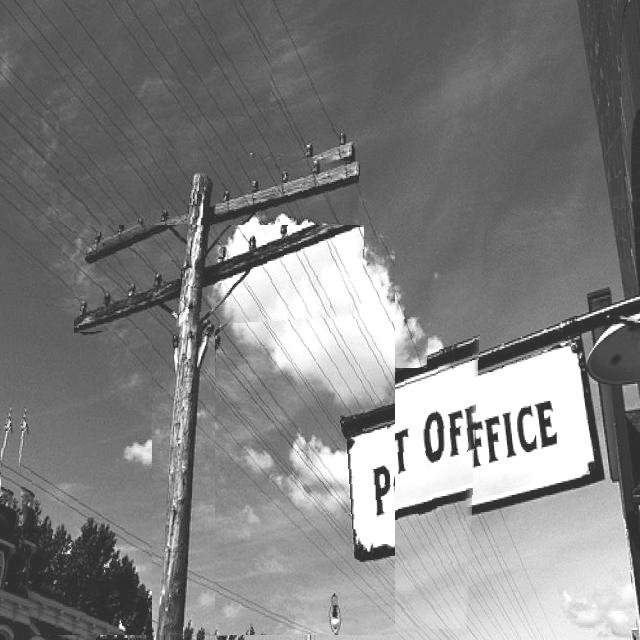crossarm: (74, 225, 364, 332), (80, 157, 360, 265)
pole: (153, 165, 215, 639)
wire: (100, 0, 473, 631), (4, 222, 395, 627), (1, 110, 331, 497), (59, 0, 334, 386), (270, 0, 431, 368)
